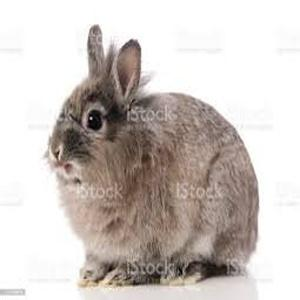rabbit: (45, 26, 260, 287)
